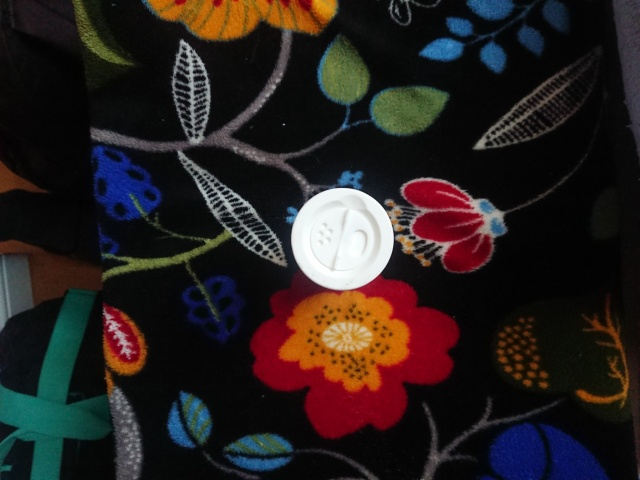Solana Pag Fine Sea Salt 250g: (287, 185, 397, 293)
